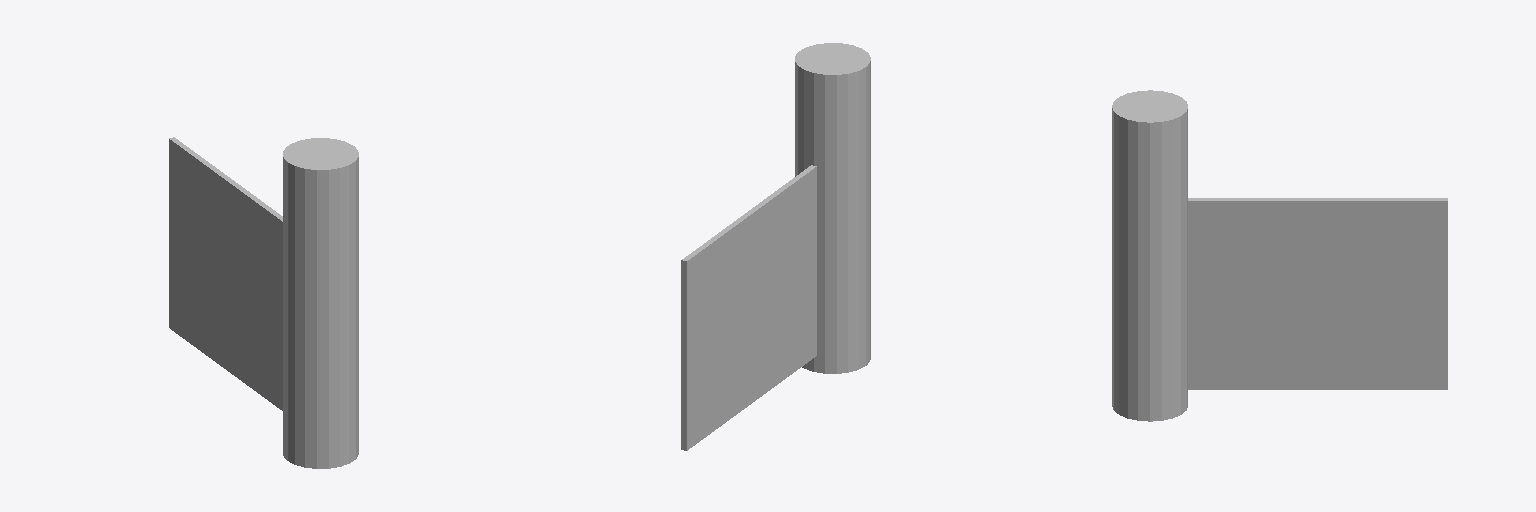
File: walldouble19.obj
The picture shows the model from 3 angles: view 1: azimuth 30°, elevation 25°; view 2: azimuth 150°, elevation 25°; view 3: azimuth 270°, elevation 25°; orthographic projection.
Visible parts, largest first — view 1: walldouble19; view 2: walldouble19; view 3: walldouble19.
Boxes of the visible parts, x1=… form: walldouble19: x1=169, y1=137, x2=358, y2=468; walldouble19: x1=681, y1=43, x2=870, y2=450; walldouble19: x1=1112, y1=90, x2=1447, y2=421.
Size of the model in its own units: 6.39 by 27.5 by 28.04.